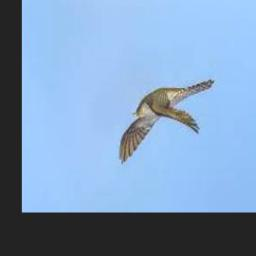Cuckoo: (119, 80, 215, 164)
